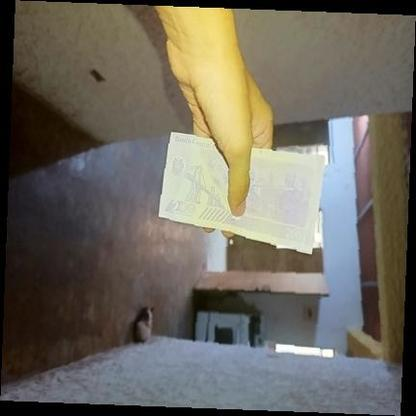two_hundred-back-vef: (156, 130, 325, 254)
